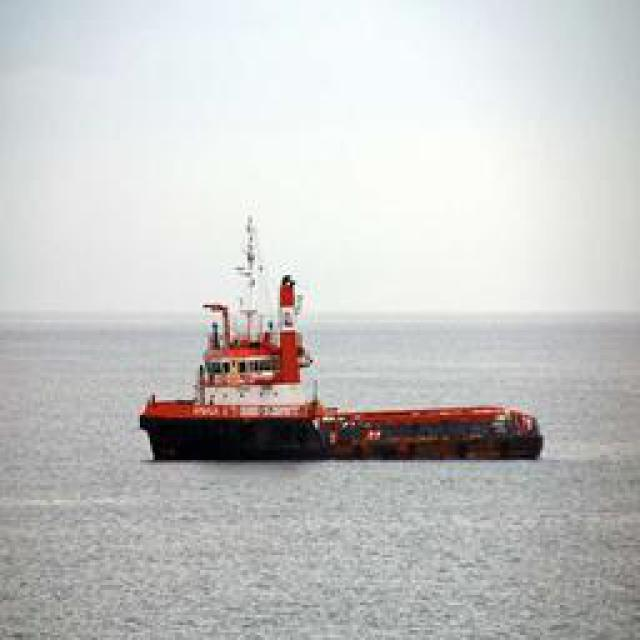Ship: (136, 238, 546, 466)
